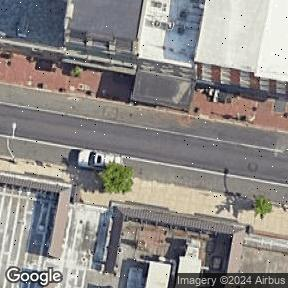vegetation: (98, 161, 135, 195), (250, 195, 274, 220)
